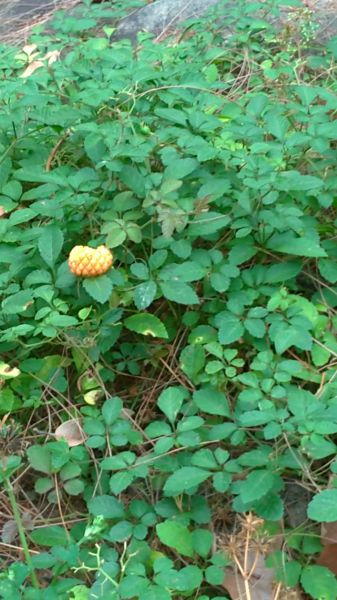eggs: (61, 236, 116, 280)
